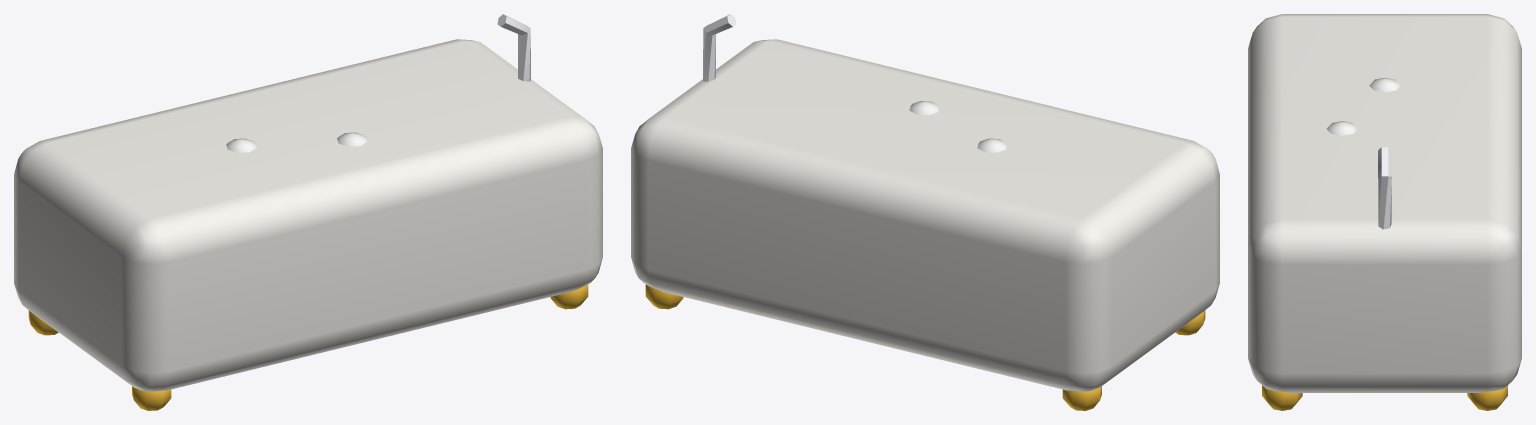
Rendered from Bathtub.fbx.
3 views of the same model, side by side, from view 1: azimuth 30°, elevation 25°; view 2: azimuth 150°, elevation 25°; view 3: azimuth 270°, elevation 25° (orthographic).
Visible parts, largest first — view 1: Bathtub; view 2: Bathtub; view 3: Bathtub.
Part boxes in pixels (x1,y1,x2,y2): Bathtub: (14,14,602,410); Bathtub: (631,14,1219,410); Bathtub: (1248,14,1521,410).
Bounding box in the file's own units: 6.4 × 3.31 × 3.2.
Materials: 1 (1 with a texture image).
